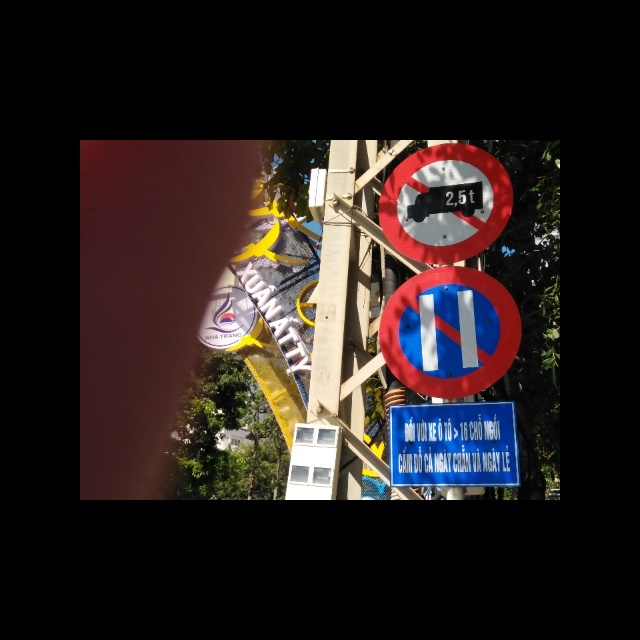Cấm xe tải: (382, 142, 513, 258)
Cấm đỗ xe ngày chẵn: (379, 266, 526, 397)
